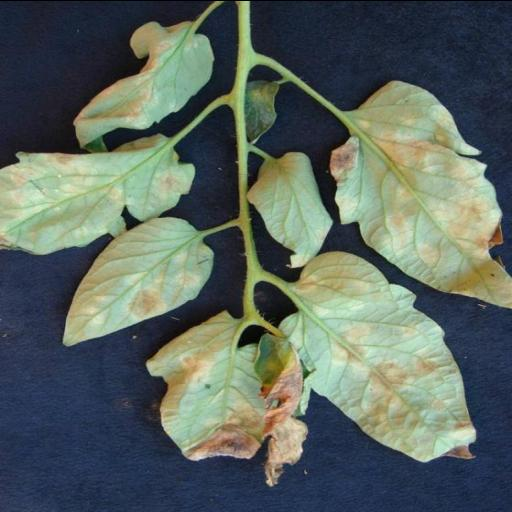Leaf Mold: (330, 61, 512, 329), (278, 241, 476, 465), (0, 129, 196, 255), (62, 211, 214, 346), (68, 18, 212, 144), (143, 310, 261, 460), (248, 150, 334, 268)
